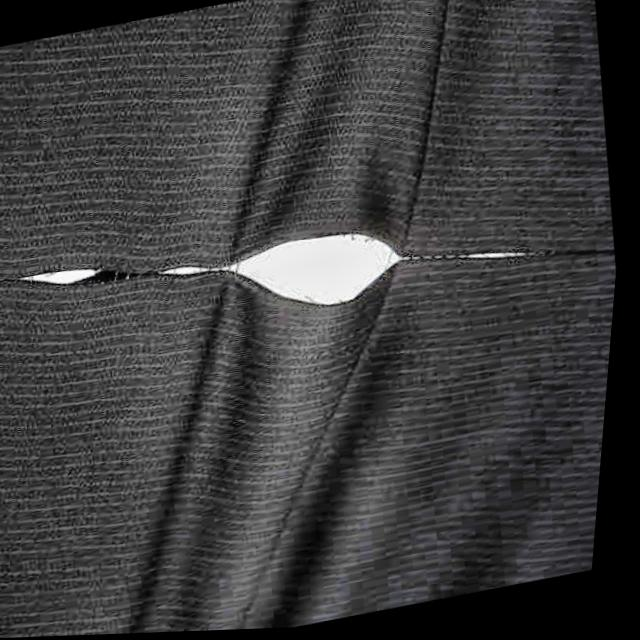seam: (1, 159, 564, 378)
